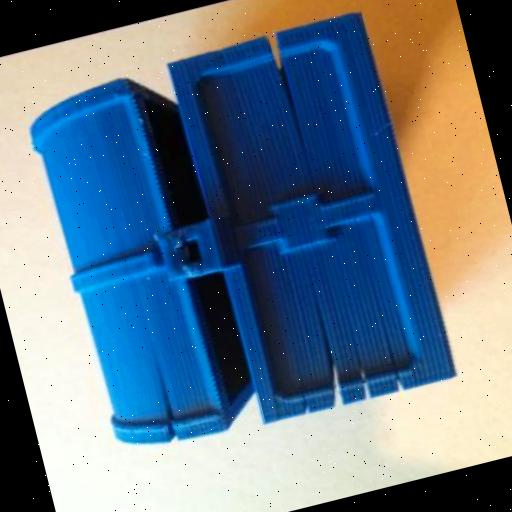cracks: (247, 18, 325, 161), (137, 346, 195, 452), (314, 336, 352, 416), (290, 388, 324, 435), (355, 370, 380, 411), (390, 360, 414, 402)
